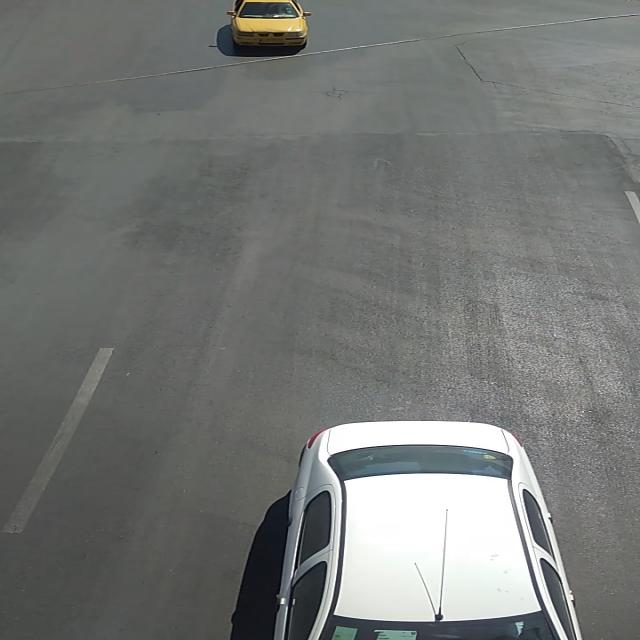car: (276, 422, 584, 640), (227, 1, 309, 48)
